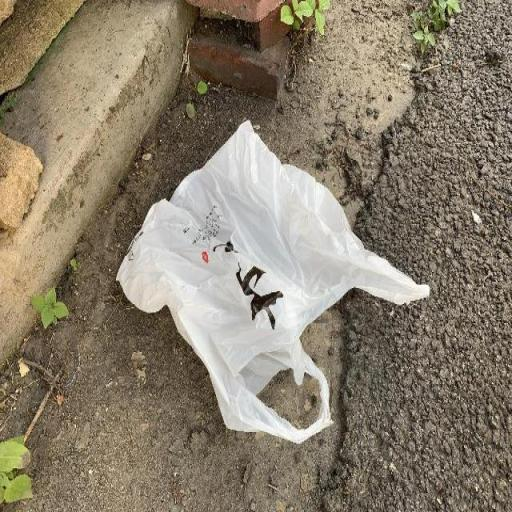plastic-bag: (114, 117, 431, 447)
